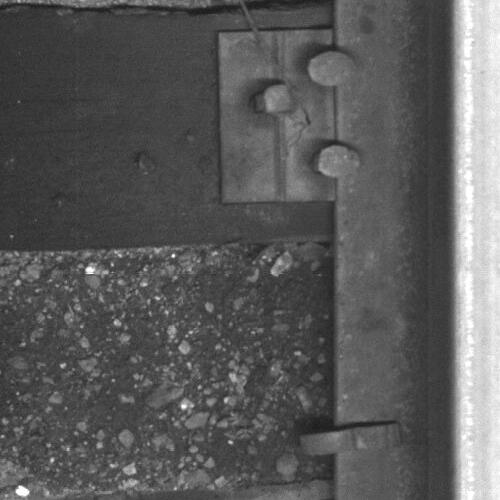crutch: (301, 419, 407, 457)
do: (214, 28, 363, 202)
rail: (449, 1, 500, 500)
tie_wood: (1, 9, 334, 242)
